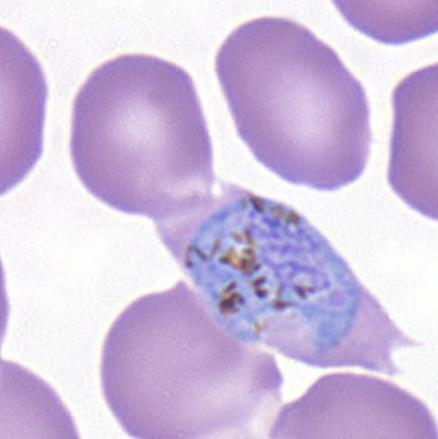Infected: (149, 169, 414, 377)
Uninfected: (96, 286, 275, 439), (217, 17, 374, 187), (68, 53, 215, 218)
